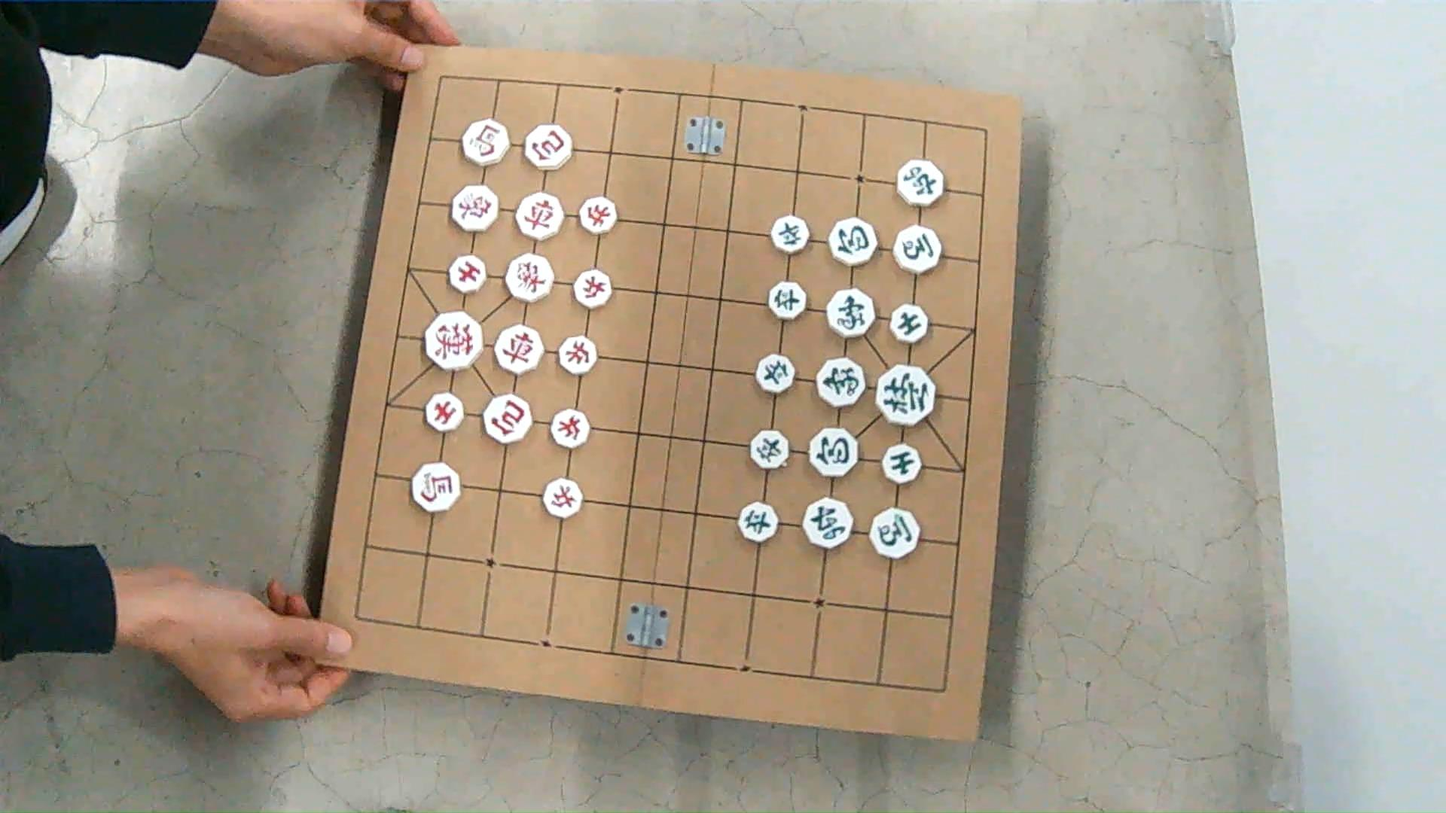cha_green: (804, 498, 852, 548), (898, 160, 944, 206)
cha_red: (495, 325, 541, 374), (517, 193, 563, 239)
jol_green: (755, 354, 794, 394), (737, 502, 776, 542), (750, 431, 789, 470), (771, 215, 809, 254), (769, 282, 805, 320)
jol_red: (543, 478, 582, 518), (578, 196, 616, 234), (551, 410, 589, 448), (558, 336, 596, 374), (574, 269, 611, 308)
ma_green: (871, 509, 918, 558), (894, 226, 941, 273)
ma_red: (411, 463, 460, 513), (462, 120, 509, 166)
po_green: (809, 428, 857, 477), (829, 218, 877, 266)
po_red: (483, 394, 531, 443), (525, 125, 572, 169)
sa_green: (882, 444, 920, 484), (890, 304, 928, 343)
sa_red: (425, 393, 463, 431), (448, 255, 486, 293)
sang_green: (816, 358, 865, 407), (827, 288, 874, 337)
sang_red: (506, 254, 553, 302), (451, 185, 498, 231)
wang_green: (877, 364, 934, 425)
wang_red: (426, 312, 482, 370)
